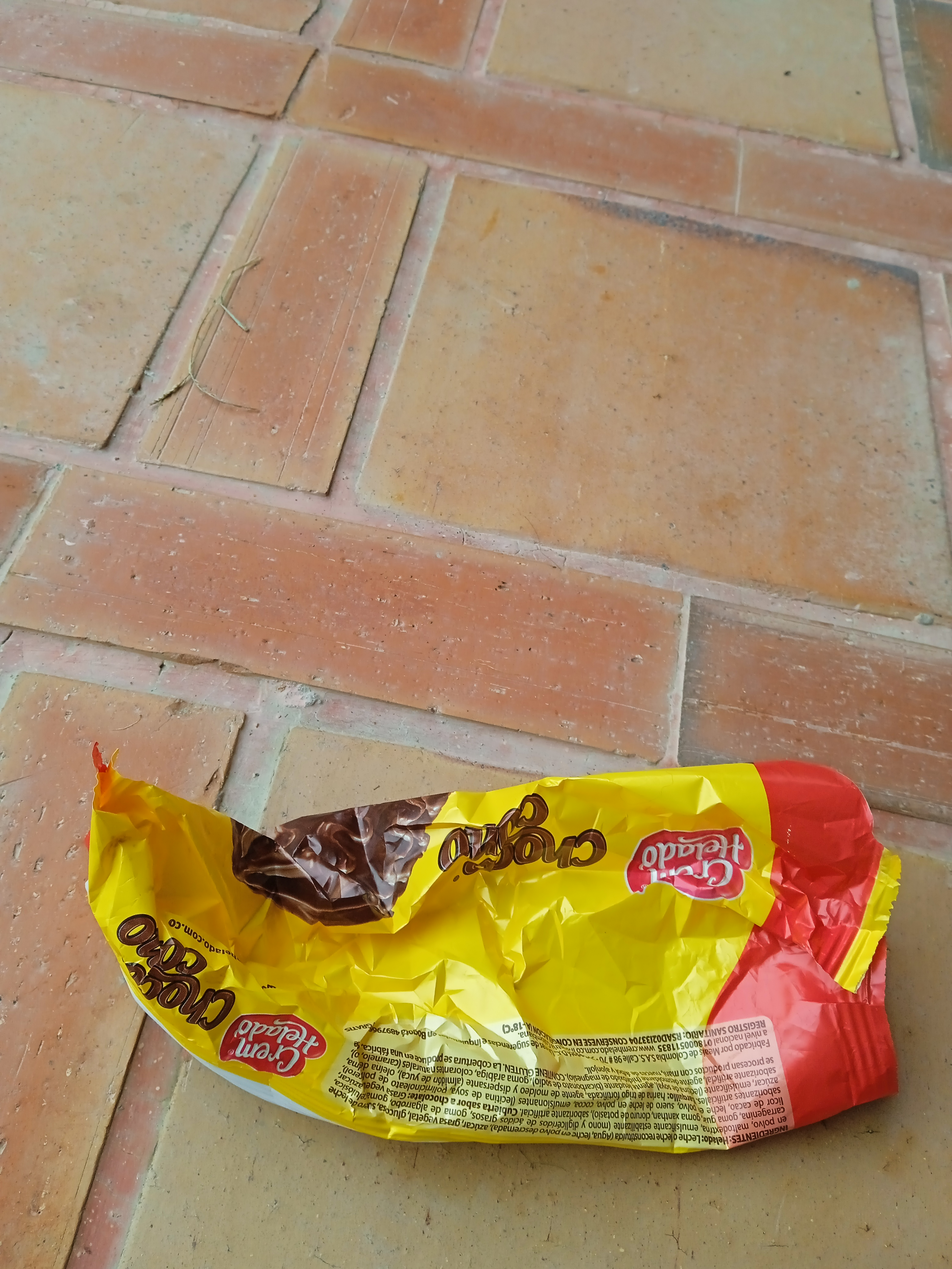plastic: (62, 696, 951, 1224)
